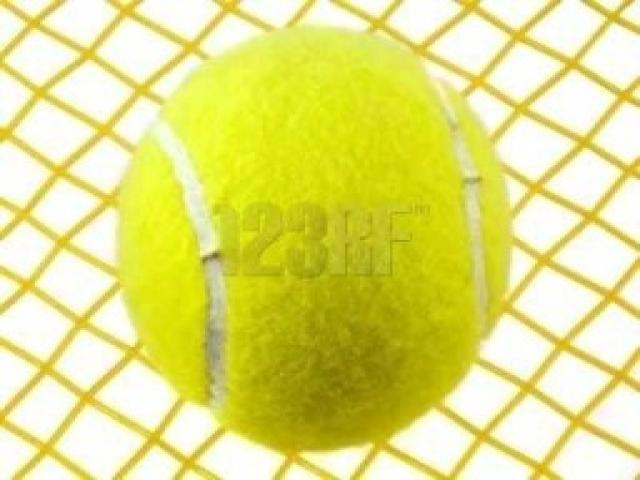tennis-ball: (115, 22, 517, 456)
